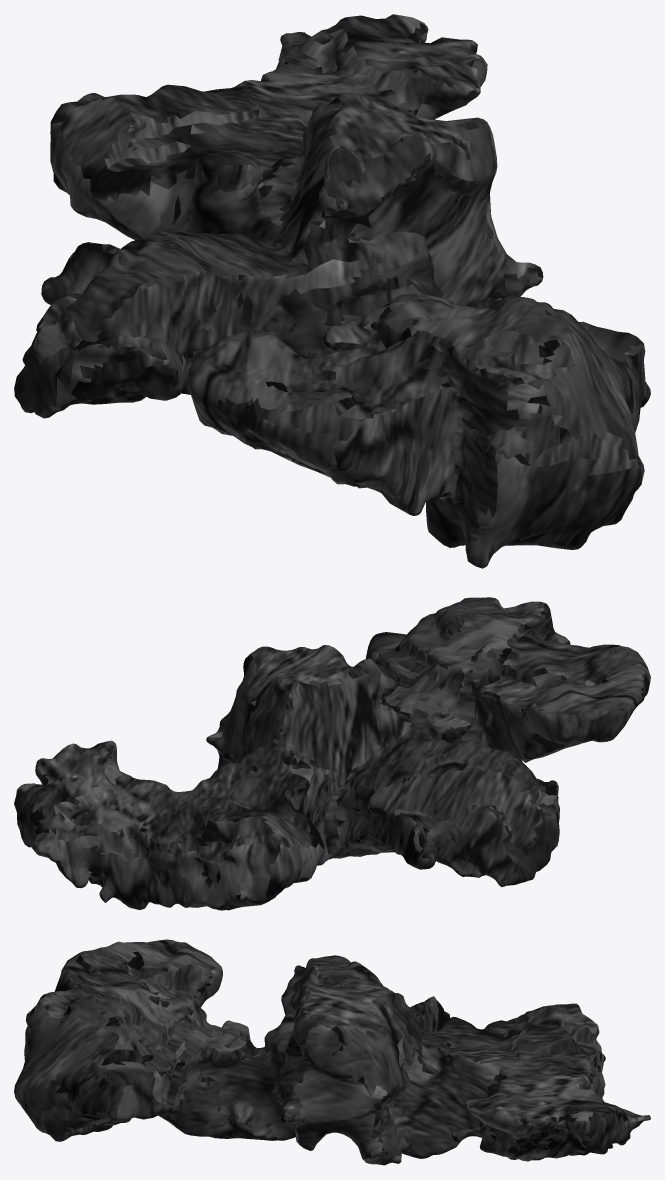
File: nice_underground_room.obj
The picture shows the model from 3 angles, top to bottom: view 1: azimuth 30°, elevation 25°; view 2: azimuth 150°, elevation 25°; view 3: azimuth 270°, elevation 25°; orthographic projection. The views are drawn at different scales.
Visible parts, largest first — view 1: Cube.028__0; view 2: Cube.028__0; view 3: Cube.028__0.
Part boxes in pixels (bbox=[...]): Cube.028__0: bbox=[14, 14, 650, 568]; Cube.028__0: bbox=[14, 597, 650, 910]; Cube.028__0: bbox=[14, 939, 650, 1165].
Bounding box in the file's own units: 13.26 × 5.62 × 19.62.
Materials: 1 (1 with a texture image).
